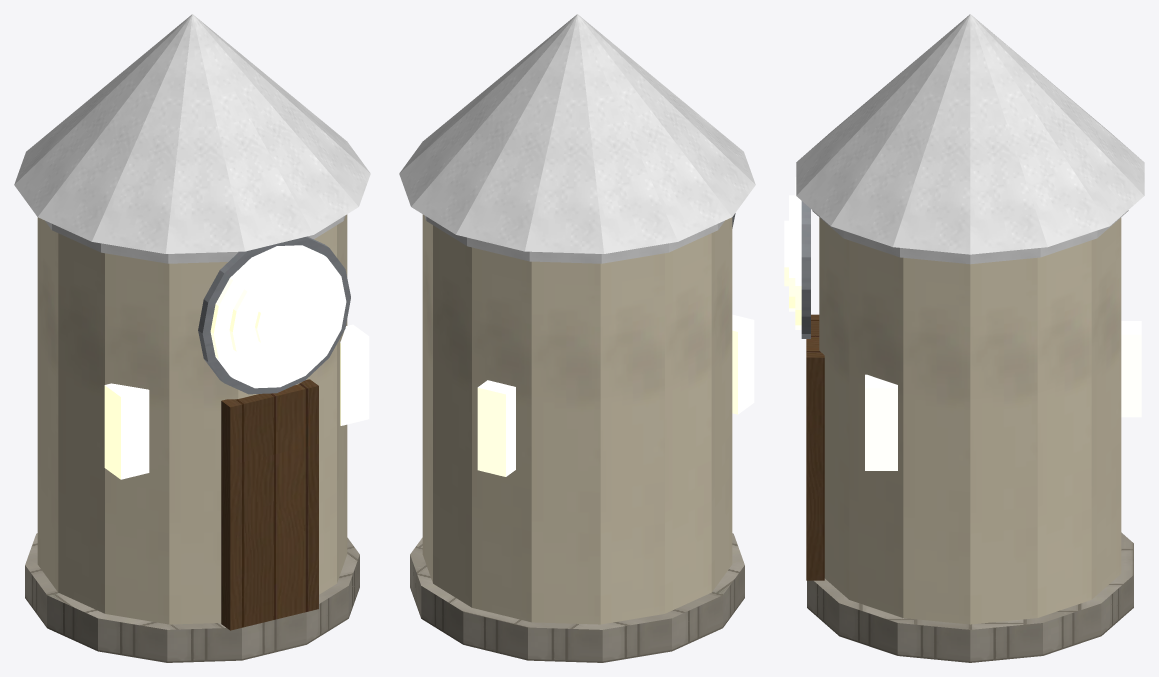
The model's file is protocol.convex.glb.
The picture shows the model from 3 angles, left to right: view 1: azimuth 30°, elevation 25°; view 2: azimuth 150°, elevation 25°; view 3: azimuth 270°, elevation 25°; orthographic projection.
Visible parts, largest first — view 1: building.protocol.convex; view 2: building.protocol.convex; view 3: building.protocol.convex.
Part boxes in pixels (left/top/right/bottom): building.protocol.convex: left=14, top=14, right=370, bottom=662; building.protocol.convex: left=399, top=14, right=755, bottom=662; building.protocol.convex: left=784, top=14, right=1144, bottom=662.
Size of the model in its own units: 1.96 by 3.5 by 1.98.
Materials: 7 (6 with a texture image).
